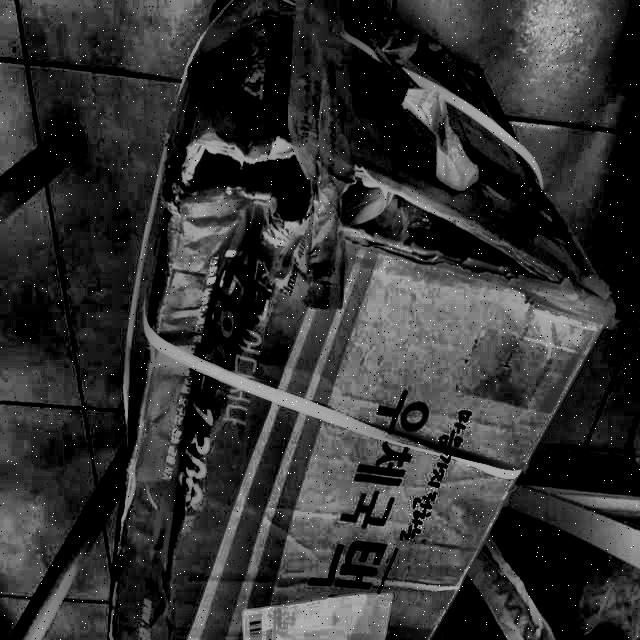box: (93, 1, 633, 640)
hole: (177, 140, 557, 282)
